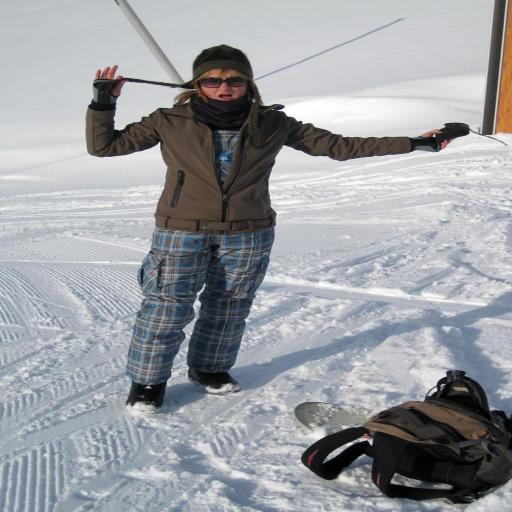Person: (131, 29, 405, 430)
gloves: (136, 61, 168, 111), (365, 117, 397, 166)
no_boots: (202, 360, 244, 402), (166, 374, 207, 416)
no_goggle: (212, 71, 256, 89)
no_helmet: (210, 42, 256, 74)
none: (184, 104, 282, 240)
